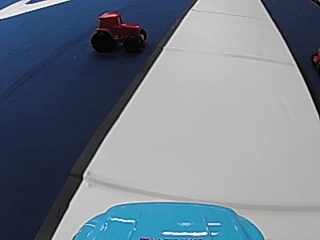tractor: (89, 9, 149, 53)
